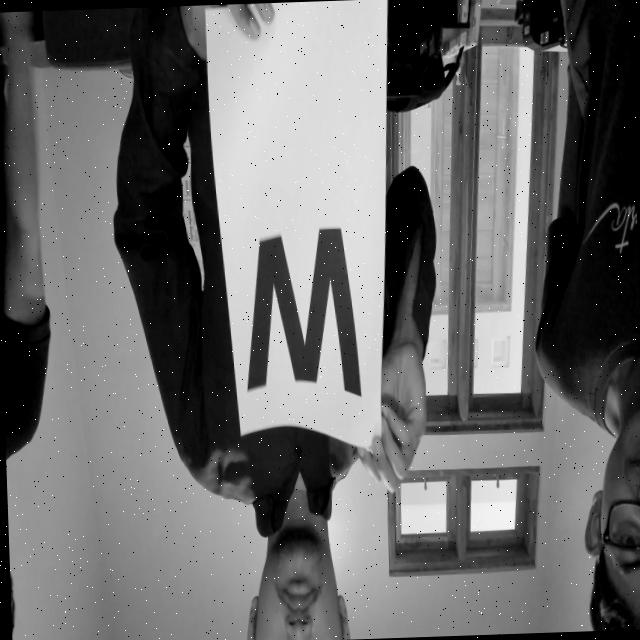w: (237, 200, 376, 418)
